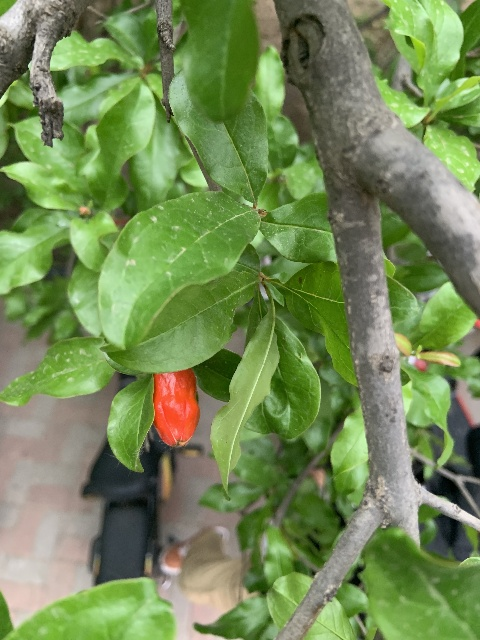bud: (152, 367, 199, 447)
